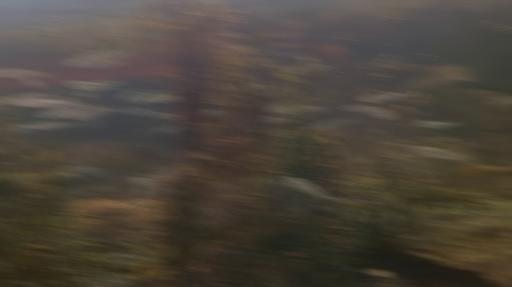Fish: (54, 166, 113, 193), (286, 177, 331, 199), (86, 49, 135, 68), (0, 69, 47, 87), (409, 146, 466, 160), (66, 50, 115, 66), (41, 103, 92, 118), (66, 106, 119, 119), (67, 79, 118, 90), (131, 91, 174, 104), (316, 42, 349, 58), (5, 92, 48, 104), (16, 98, 73, 107), (0, 68, 47, 77), (314, 118, 351, 128), (269, 41, 308, 50), (272, 30, 307, 40), (29, 122, 74, 129), (86, 60, 125, 68), (122, 87, 145, 100), (417, 121, 458, 128), (268, 101, 289, 114), (9, 124, 38, 133), (371, 108, 392, 120), (128, 177, 153, 187), (344, 105, 379, 112), (272, 51, 307, 58), (281, 19, 304, 29), (21, 77, 40, 88), (385, 92, 408, 101), (127, 107, 152, 115), (152, 94, 176, 102), (159, 65, 176, 76), (264, 116, 287, 124), (303, 104, 329, 111), (309, 64, 331, 72), (152, 112, 177, 119), (247, 83, 268, 91), (490, 98, 511, 105), (158, 125, 177, 132), (204, 109, 219, 116), (78, 92, 93, 97)
